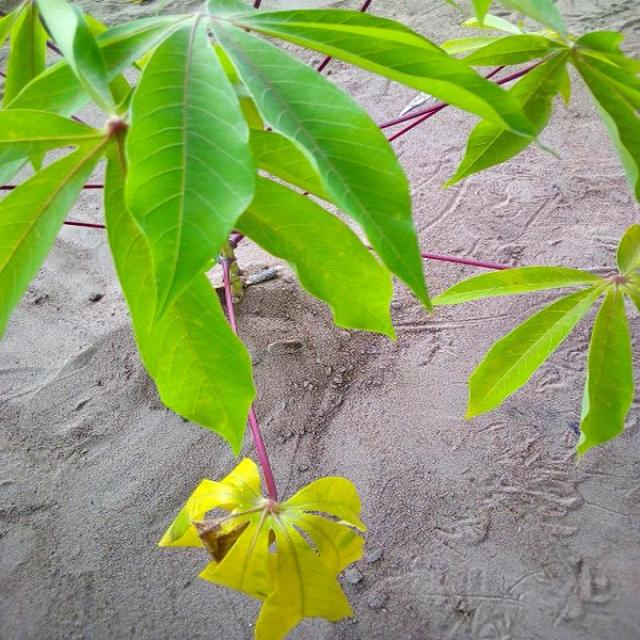cassava leaf: (208, 5, 434, 314), (104, 11, 259, 456), (158, 454, 368, 638)
